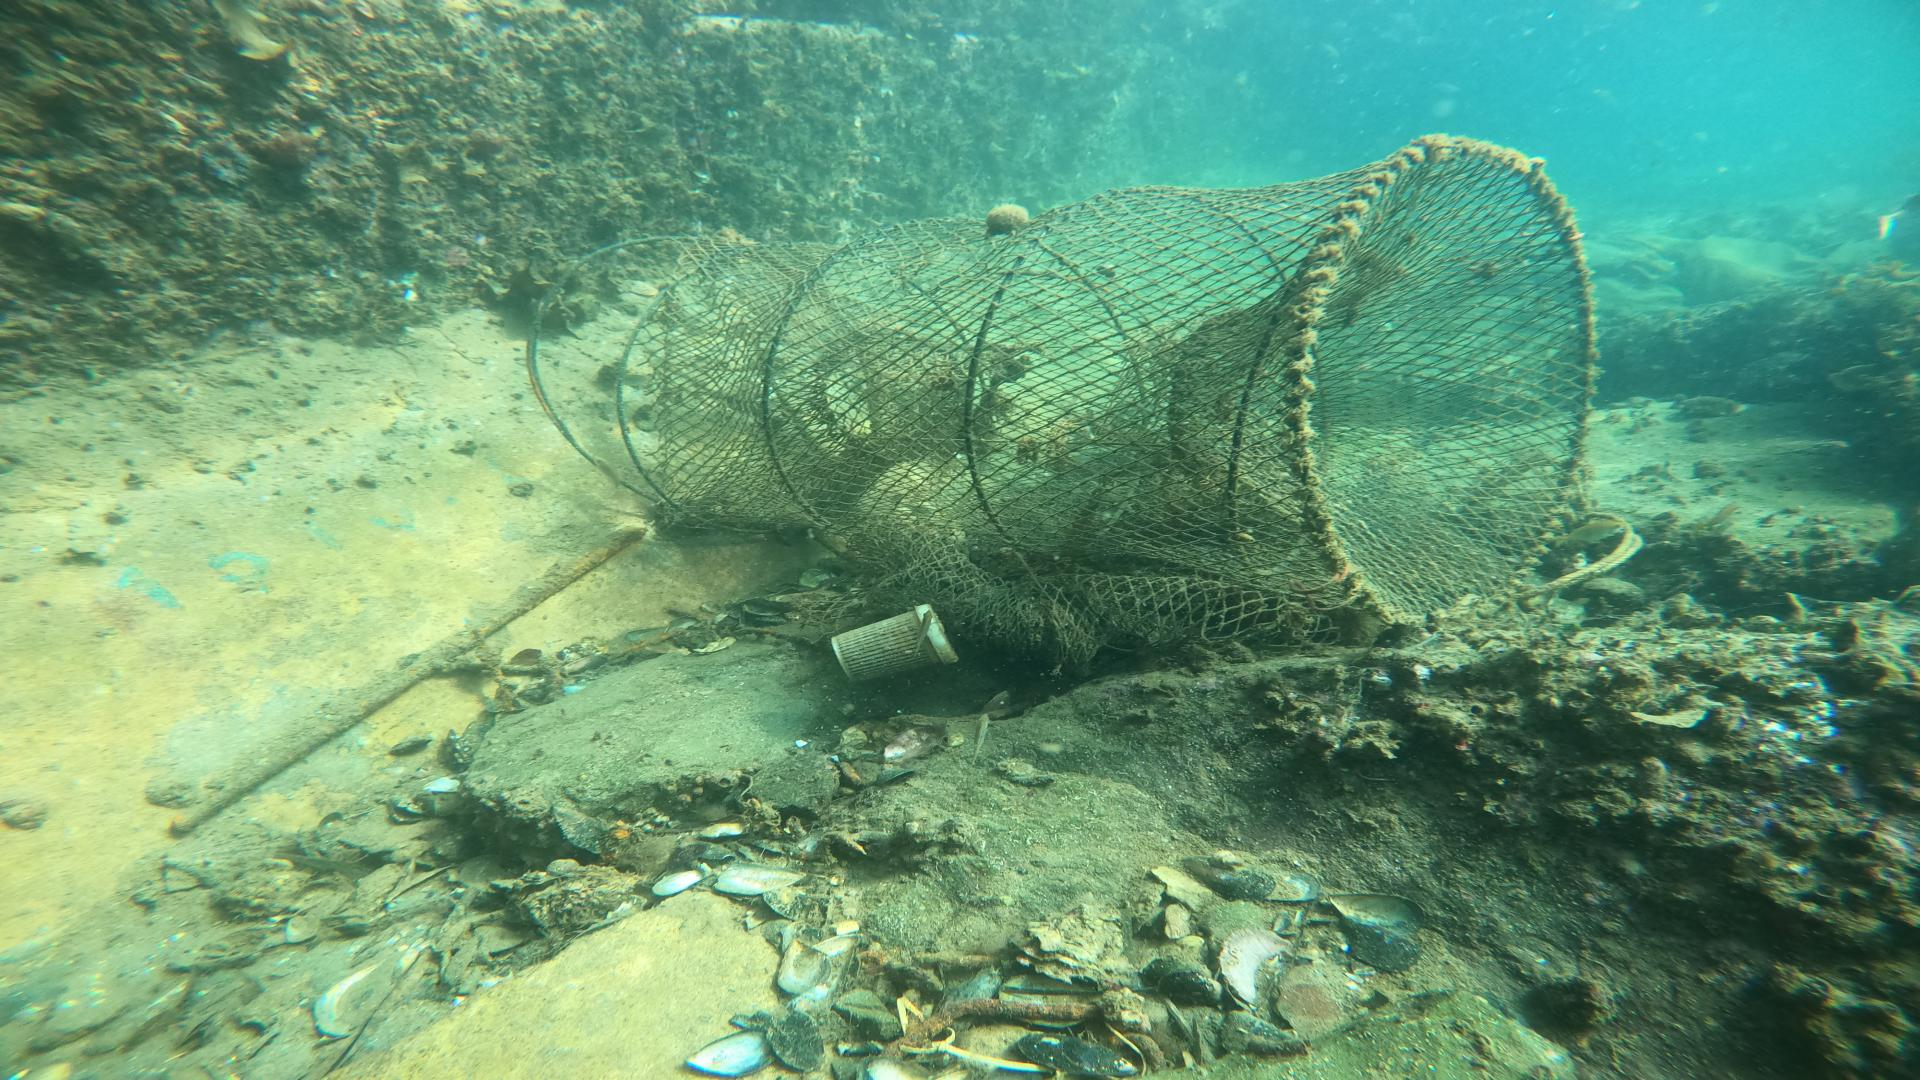spring fish trap: (651, 129, 1607, 655)
